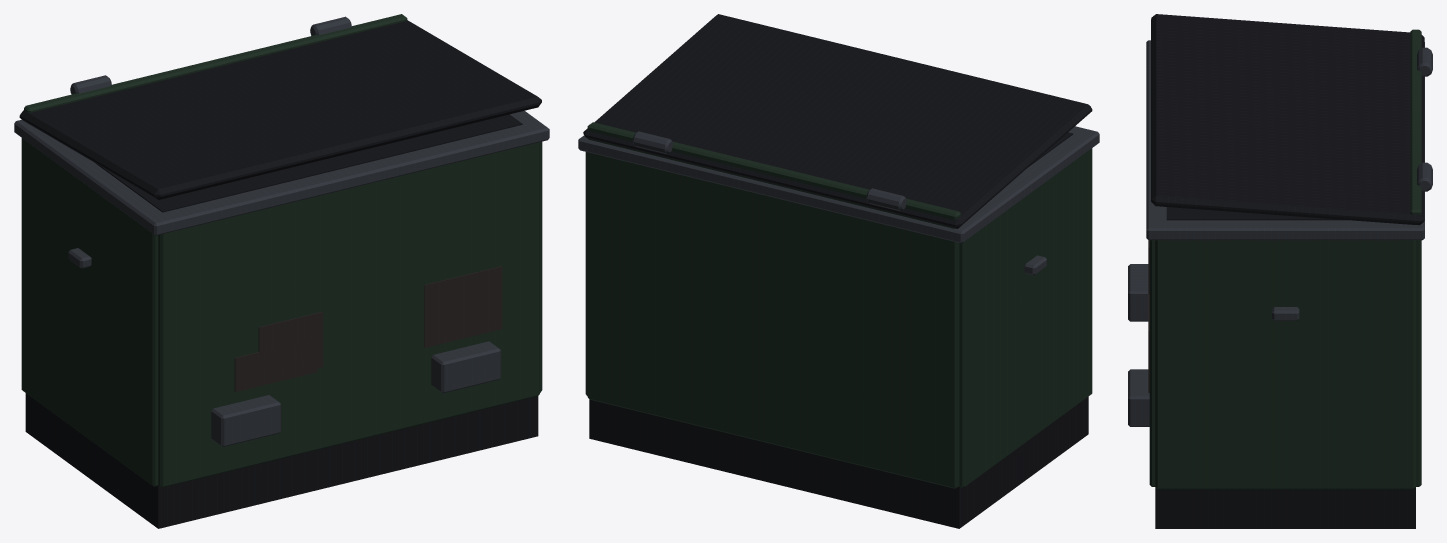
Rendered from kit_dumpster.glb.
3 renders of one model, left to right at view 1: azimuth 30°, elevation 25°; view 2: azimuth 150°, elevation 25°; view 3: azimuth 270°, elevation 25°, orthographic. The views are drawn at different scales.
Parts seen in each view (by area): view 1: dp_wall_front, dp_lid, dp_wall_left, dp_COL, dp_rim, dp_rim_inner, dp_rust1, dp_wall_back, dp_rust0, dp_pocket1, dp_pocket-1, dp_rust2 (+1 smaller); view 2: dp_wall_back, dp_lid, dp_wall_left, dp_COL, dp_rim, dp_wall_right, dp_hinge-1, dp_hinge1; view 3: dp_wall_right, dp_lid, dp_COL, dp_rim, dp_wall_back, dp_wall_front, dp_rim_inner, dp_pocket1, dp_pocket-1, dp_hinge1, dp_hinge-1, dp_handle1.
Boxes of the visible parts, bbox=[...] form: dp_wall_front: bbox=[158, 142, 539, 487]; dp_lid: bbox=[19, 20, 541, 199]; dp_wall_left: bbox=[21, 138, 158, 486]; dp_COL: bbox=[25, 393, 538, 528]; dp_rim: bbox=[14, 111, 549, 235]; dp_rim_inner: bbox=[94, 114, 522, 212]; dp_rust1: bbox=[424, 266, 502, 347]; dp_wall_back: bbox=[24, 14, 407, 112]; dp_rust0: bbox=[234, 338, 317, 391]; dp_pocket1: bbox=[431, 341, 500, 393]; dp_pocket-1: bbox=[211, 395, 280, 446]; dp_rust2: bbox=[258, 311, 323, 381]; dp_wall_back: bbox=[587, 122, 960, 488]; dp_lid: bbox=[583, 14, 1092, 228]; dp_wall_left: bbox=[959, 148, 1092, 487]; dp_COL: bbox=[589, 396, 1088, 528]; dp_rim: bbox=[578, 126, 1099, 243]; dp_wall_right: bbox=[585, 152, 587, 395]; dp_hinge-1: bbox=[866, 188, 906, 211]; dp_hinge1: bbox=[632, 131, 673, 154]; dp_wall_right: bbox=[1155, 240, 1415, 489]; dp_lid: bbox=[1151, 14, 1424, 225]; dp_COL: bbox=[1155, 487, 1415, 528]; dp_rim: bbox=[1146, 40, 1424, 240]; dp_wall_back: bbox=[1410, 29, 1421, 486]; dp_wall_front: bbox=[1149, 240, 1155, 486]; dp_rim_inner: bbox=[1166, 207, 1347, 220]; dp_pocket1: bbox=[1128, 369, 1149, 426]; dp_pocket-1: bbox=[1128, 264, 1148, 321]; dp_hinge1: bbox=[1417, 162, 1432, 191]; dp_hinge-1: bbox=[1417, 47, 1432, 76]; dp_handle1: bbox=[1272, 307, 1299, 320].
Size of the model in its own units: 2.08 by 1.62 by 1.34.
Materials: 5 (5 with a texture image).
